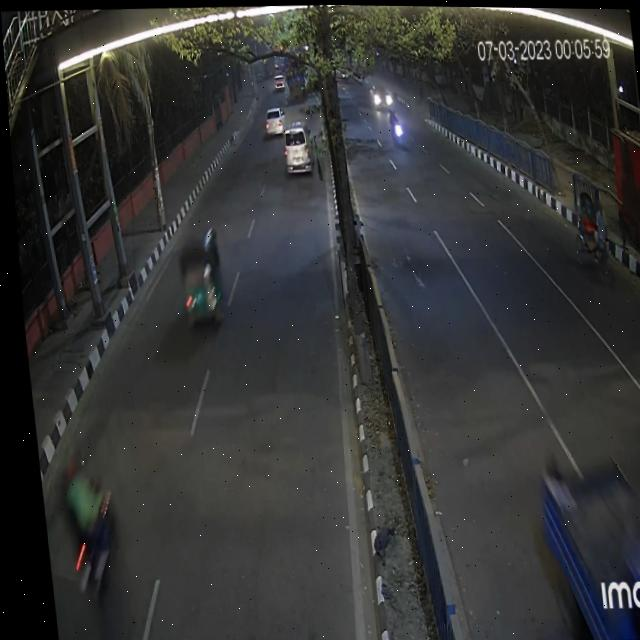cng: (168, 227, 226, 333)
rikshaw: (566, 184, 616, 283)
